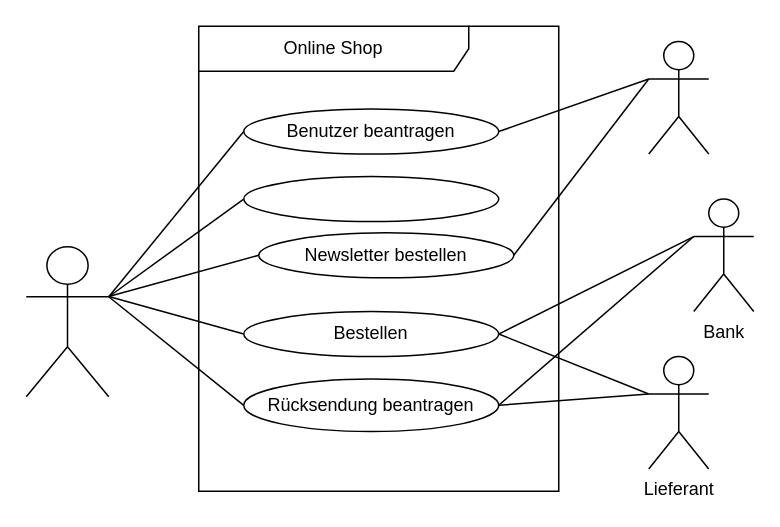
This 780x527 diagram has some shape labels left out. Here are the shapes that lost their labels. From the top down, the centre of each, then its label:
point (678, 97): Shop Admin
point (370, 198): Produkte vergleichen
point (67, 321): Kunde
